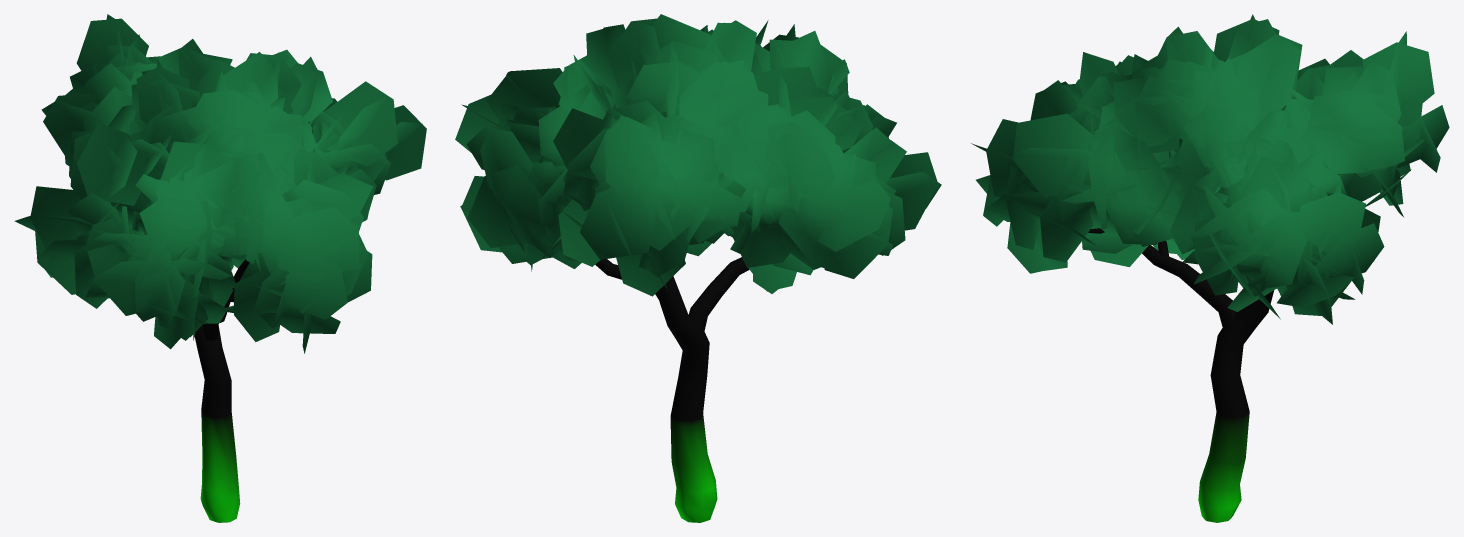
Rendered from SM_OakTree4.fbx.
3 renders of one model, left to right at view 1: azimuth 30°, elevation 25°; view 2: azimuth 150°, elevation 25°; view 3: azimuth 270°, elevation 25°, orthographic. The views are drawn at different scales.
Parts seen in each view (by area): view 1: SM_OakTree4_LOD0; view 2: SM_OakTree4_LOD0; view 3: SM_OakTree4_LOD0.
Boxes of the visible parts, x1,y1,x2,y2 form: SM_OakTree4_LOD0: (14,14,426,522); SM_OakTree4_LOD0: (455,14,941,522); SM_OakTree4_LOD0: (971,14,1449,522).
Bounding box in the file's own units: 1331 × 1463 × 1315.
